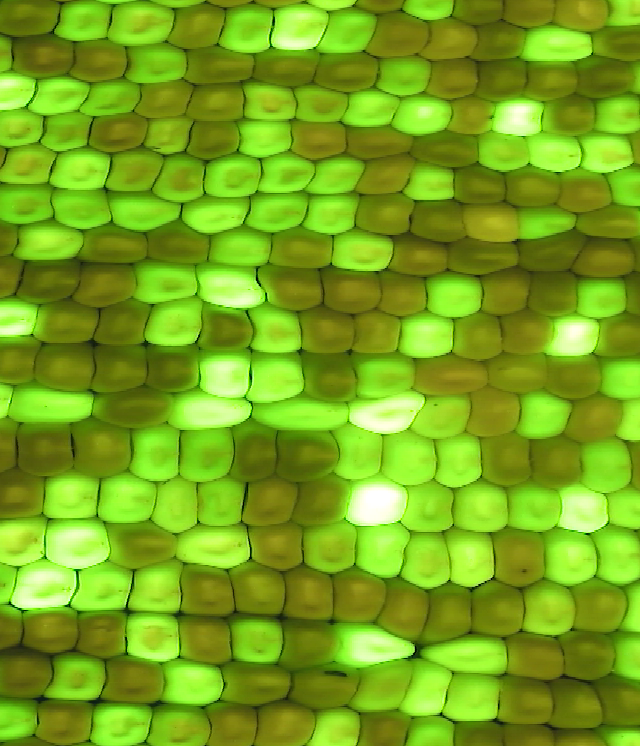fluorescent: (43, 514, 113, 572), (193, 261, 271, 311), (331, 619, 419, 663), (423, 632, 511, 676), (15, 557, 79, 615), (168, 389, 255, 431), (251, 396, 355, 431), (107, 186, 182, 234), (125, 423, 184, 484), (538, 528, 599, 587), (349, 351, 419, 401), (9, 383, 96, 423), (74, 561, 134, 619), (439, 530, 499, 588), (97, 472, 159, 528), (450, 481, 513, 536), (106, 1, 181, 47), (247, 348, 307, 405), (41, 471, 105, 524), (352, 522, 408, 582), (131, 558, 186, 619), (342, 481, 413, 528), (381, 429, 438, 487), (129, 258, 204, 302), (177, 427, 237, 482), (399, 528, 453, 589), (214, 3, 281, 52), (347, 393, 423, 436), (45, 653, 109, 704), (419, 272, 488, 319), (173, 526, 256, 565), (125, 611, 188, 662), (518, 582, 576, 637), (441, 671, 506, 720), (161, 660, 230, 706), (403, 657, 454, 719), (317, 7, 380, 57), (142, 299, 205, 349), (227, 612, 285, 666), (49, 185, 117, 231), (515, 24, 597, 62), (269, 4, 331, 54), (194, 348, 256, 398), (331, 423, 386, 479), (577, 439, 634, 493), (301, 523, 362, 573), (144, 703, 214, 746), (505, 482, 564, 533), (248, 304, 308, 354), (590, 527, 640, 587), (514, 392, 575, 441), (51, 147, 114, 194), (555, 484, 614, 534), (432, 433, 485, 488), (401, 483, 459, 533), (120, 41, 189, 83), (154, 473, 199, 537), (302, 188, 363, 235), (179, 195, 251, 234), (396, 313, 457, 359), (0, 515, 51, 570), (15, 222, 85, 262), (332, 229, 395, 273), (156, 149, 207, 203), (238, 77, 300, 121), (89, 701, 151, 745), (247, 191, 311, 233), (50, 1, 114, 42), (194, 480, 247, 529), (0, 144, 59, 188), (376, 54, 434, 98), (0, 179, 58, 223), (414, 394, 472, 438), (235, 117, 297, 158), (571, 276, 631, 318), (392, 94, 453, 135), (291, 82, 352, 123), (544, 316, 605, 357), (339, 90, 403, 129), (354, 665, 406, 713), (258, 153, 317, 195), (491, 93, 546, 138), (209, 230, 275, 267), (106, 151, 164, 192), (405, 159, 457, 204), (38, 111, 95, 152), (204, 158, 265, 196), (526, 133, 583, 173), (579, 132, 634, 173), (81, 78, 143, 114), (31, 74, 84, 116), (474, 132, 531, 171), (310, 156, 365, 196), (517, 204, 579, 239), (591, 92, 640, 136), (307, 707, 362, 746), (0, 106, 50, 147), (0, 694, 41, 741), (145, 115, 195, 153), (599, 355, 640, 400), (0, 298, 44, 339), (0, 70, 38, 115), (406, 713, 457, 746), (603, 165, 640, 206), (608, 485, 640, 532), (399, 1, 455, 23), (604, 1, 640, 29), (598, 723, 640, 746), (306, 1, 360, 13), (150, 1, 207, 10)
nonfluorescent: (67, 418, 137, 482), (15, 416, 79, 478), (274, 428, 346, 482), (378, 575, 433, 645), (90, 388, 181, 430), (105, 519, 181, 568), (467, 581, 531, 639), (279, 617, 345, 673), (493, 672, 560, 727), (489, 528, 550, 588), (32, 340, 100, 393), (500, 630, 568, 683), (179, 562, 243, 618), (257, 263, 327, 313), (99, 656, 169, 706), (410, 354, 495, 395), (228, 561, 291, 616), (321, 263, 385, 317), (546, 678, 610, 732), (295, 350, 360, 403), (329, 569, 390, 625), (0, 642, 55, 704), (528, 434, 586, 492), (219, 660, 291, 706), (288, 663, 360, 709), (572, 580, 631, 636), (279, 567, 338, 623), (420, 585, 474, 646), (9, 32, 77, 80), (562, 392, 626, 443), (464, 387, 525, 440), (194, 301, 258, 351), (33, 300, 102, 346), (312, 47, 381, 93), (17, 256, 83, 304), (74, 258, 140, 306), (559, 629, 621, 680), (448, 312, 511, 362), (227, 424, 281, 482), (176, 612, 235, 665), (344, 121, 418, 163), (253, 700, 320, 746), (477, 434, 535, 487), (95, 296, 154, 348), (445, 235, 521, 275), (93, 342, 151, 394), (242, 476, 300, 528), (143, 343, 202, 394), (21, 604, 80, 655), (182, 45, 259, 84), (143, 225, 216, 266), (288, 115, 351, 162), (247, 520, 305, 571), (355, 191, 419, 237), (296, 306, 358, 353), (295, 473, 351, 525), (524, 267, 581, 318), (544, 350, 603, 399), (370, 10, 430, 58), (386, 233, 450, 278), (34, 698, 96, 744), (201, 700, 262, 746), (514, 234, 584, 274), (349, 308, 405, 358), (414, 129, 482, 170), (270, 229, 338, 270), (254, 45, 320, 87), (68, 38, 130, 82), (489, 351, 551, 395), (450, 165, 516, 206), (170, 2, 224, 52), (556, 169, 616, 214), (185, 115, 242, 162), (497, 309, 554, 356), (379, 268, 431, 319), (0, 469, 51, 521), (420, 17, 480, 61), (410, 198, 470, 242), (78, 227, 151, 263), (573, 237, 637, 278), (183, 82, 250, 121), (580, 55, 639, 99), (463, 201, 522, 245), (74, 610, 129, 657), (503, 165, 563, 208), (475, 57, 531, 102), (88, 113, 149, 154), (359, 153, 417, 196), (593, 674, 640, 727), (526, 58, 581, 103), (482, 267, 533, 315), (427, 57, 482, 101), (0, 1, 62, 40), (542, 97, 600, 138), (470, 22, 530, 61), (135, 79, 196, 117), (353, 710, 417, 746), (576, 204, 640, 239), (0, 333, 43, 384), (592, 22, 640, 65), (595, 314, 640, 359), (446, 99, 499, 137), (552, 1, 616, 31), (497, 718, 560, 746), (502, 1, 560, 31), (448, 719, 510, 746), (452, 1, 506, 29), (550, 722, 609, 746), (353, 1, 403, 14), (202, 1, 255, 10), (252, 1, 308, 6)
